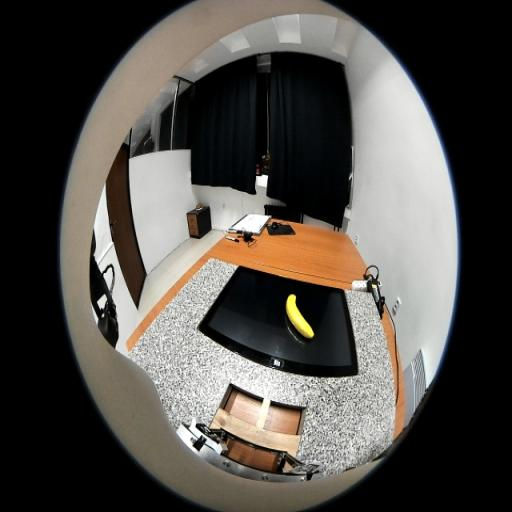Banana: (286, 294, 314, 339)
